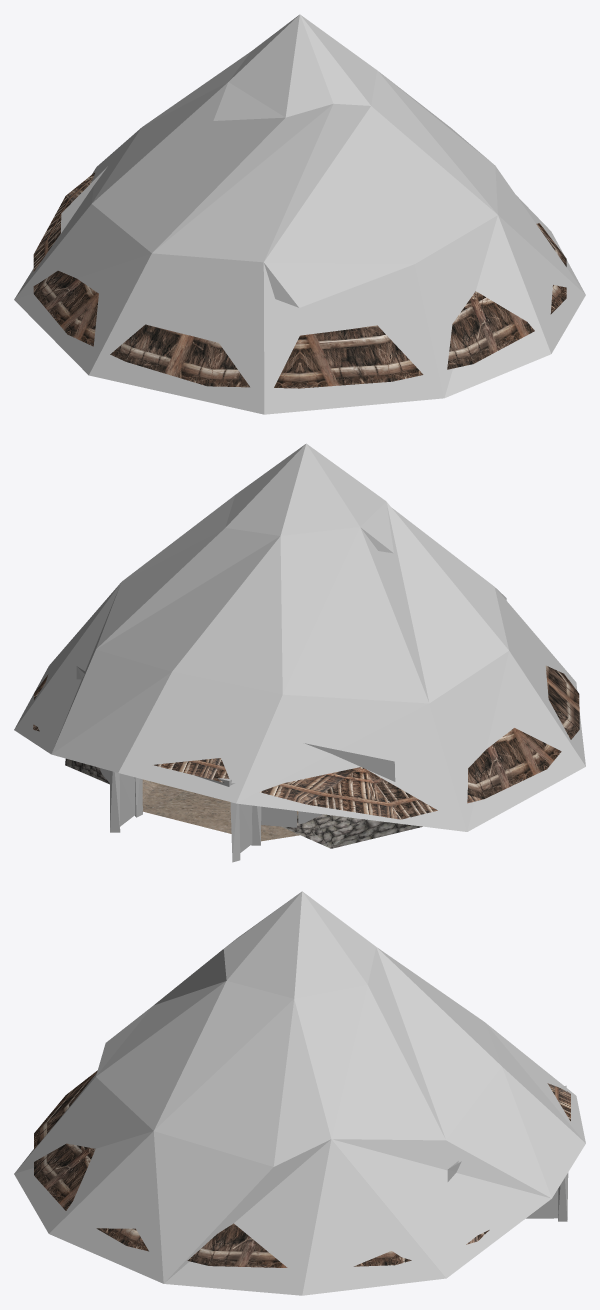
Rendered from RoundHut_2_LOD4.fbx.
3 views of the same model, one above another, from view 1: azimuth 30°, elevation 25°; view 2: azimuth 150°, elevation 25°; view 3: azimuth 270°, elevation 25° (orthographic). The views are drawn at different scales.
Parts seen in each view (by area): view 1: Alpha, Roof; view 2: Alpha, Roof, Wood, Ground, Stone; view 3: Alpha, Roof, Wood.
Boxes of the visible parts, box(x1,y1,x2,y2) form: Alpha: box(14, 14, 585, 414); Roof: box(33, 172, 566, 388); Alpha: box(14, 443, 585, 831); Roof: box(33, 665, 579, 819); Wood: box(76, 666, 395, 862); Ground: box(142, 779, 299, 841); Stone: box(65, 758, 422, 848); Alpha: box(14, 891, 585, 1295); Roof: box(34, 1070, 570, 1267); Wood: box(447, 1085, 568, 1221).
Bounding box in the file's own units: 2371 × 2361 × 1370.
